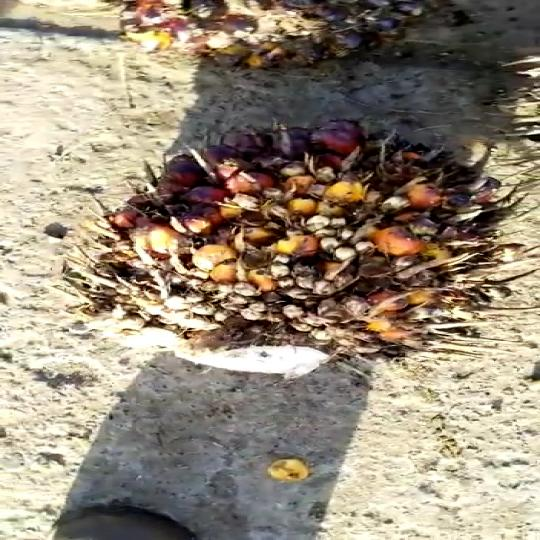masak: (69, 119, 514, 370)
